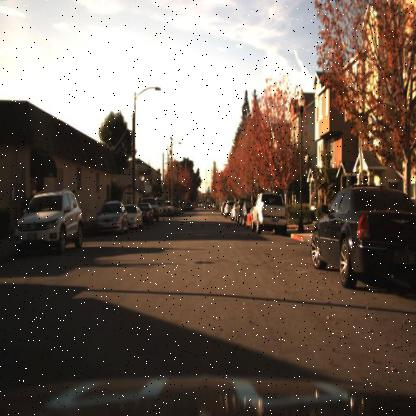car: (309, 183, 416, 290), (12, 188, 82, 254), (252, 190, 288, 237), (94, 198, 128, 233), (125, 200, 143, 231), (154, 193, 169, 222), (139, 203, 155, 228)
